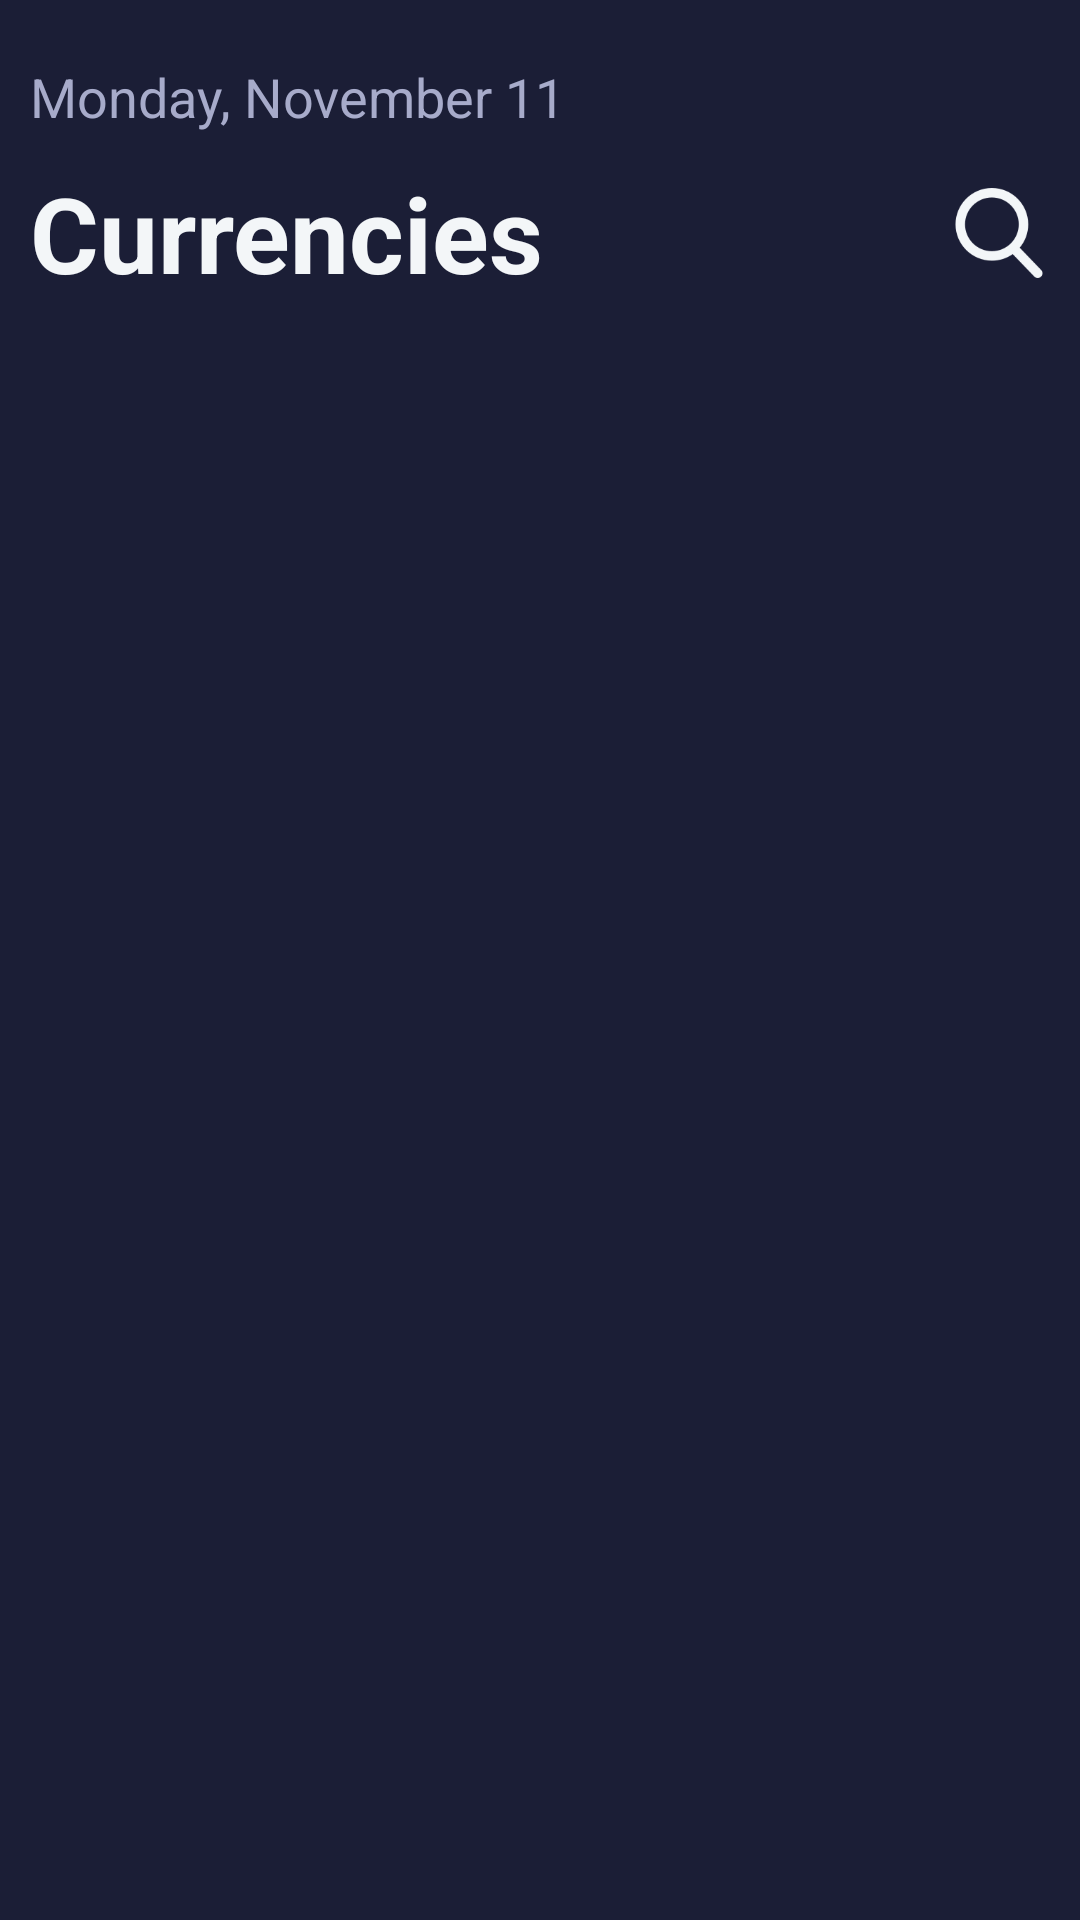

Icons on this 1080×1920 Android screen, each with the point to tap as point (x, y):
search: point (999, 233)
